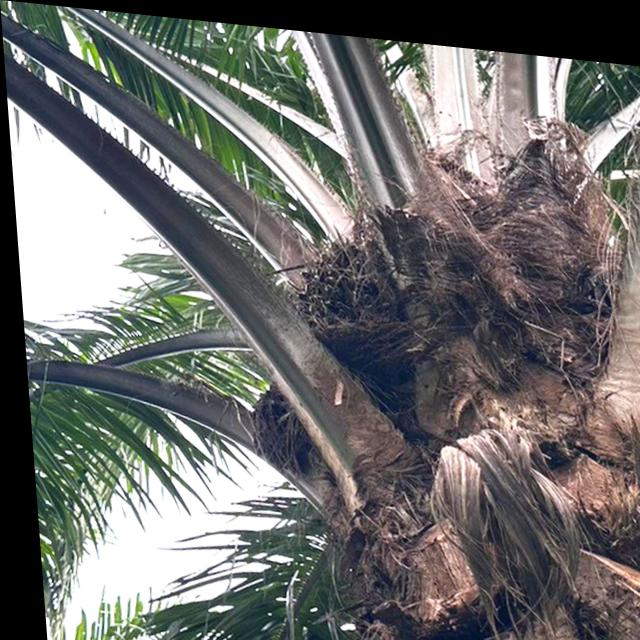almost: (282, 215, 415, 399)
unripe: (236, 373, 333, 492)
